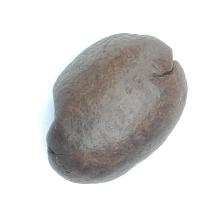NG: (44, 84, 69, 169), (149, 37, 186, 85)
